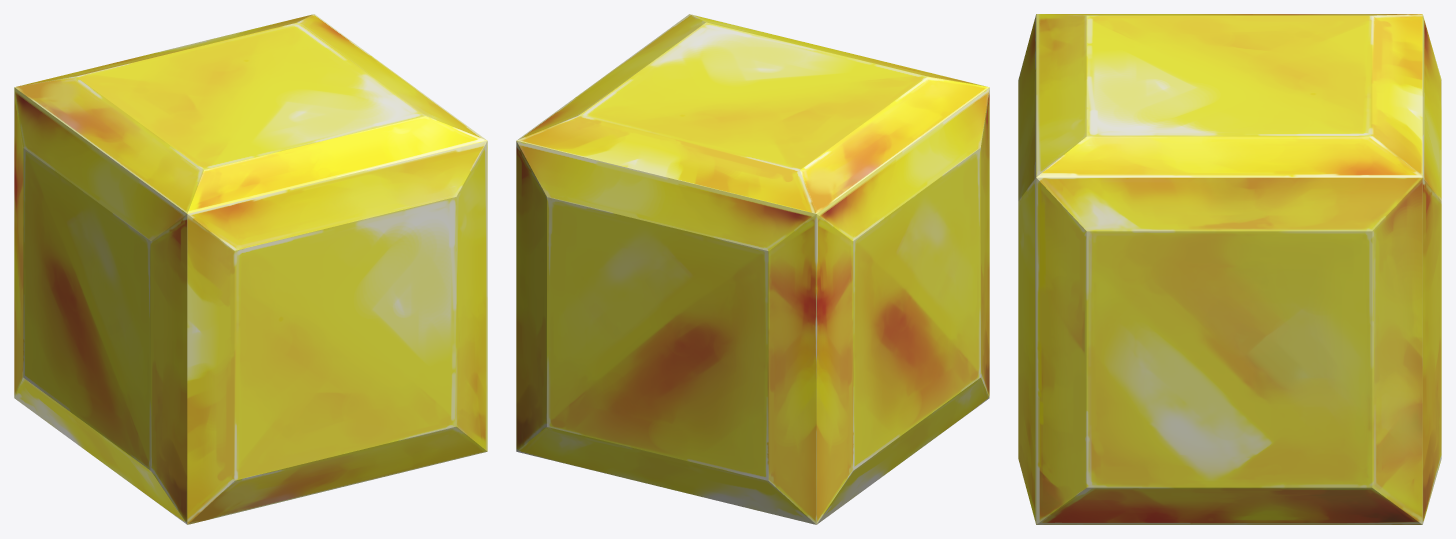
3 renders of one model, left to right at view 1: azimuth 30°, elevation 25°; view 2: azimuth 150°, elevation 25°; view 3: azimuth 270°, elevation 25°, orthographic. The views are drawn at different scales.
Parts seen in each view (by area): view 1: Box055; view 2: Box055; view 3: Box055.
Boxes of the visible parts, x1,y1,x2,y2 form: Box055: [14, 14, 487, 524]; Box055: [516, 14, 989, 524]; Box055: [1018, 14, 1441, 524].
Bounding box in the file's own units: 0.997 × 0.996 × 0.9956.
Materials: 1 (1 with a texture image).
